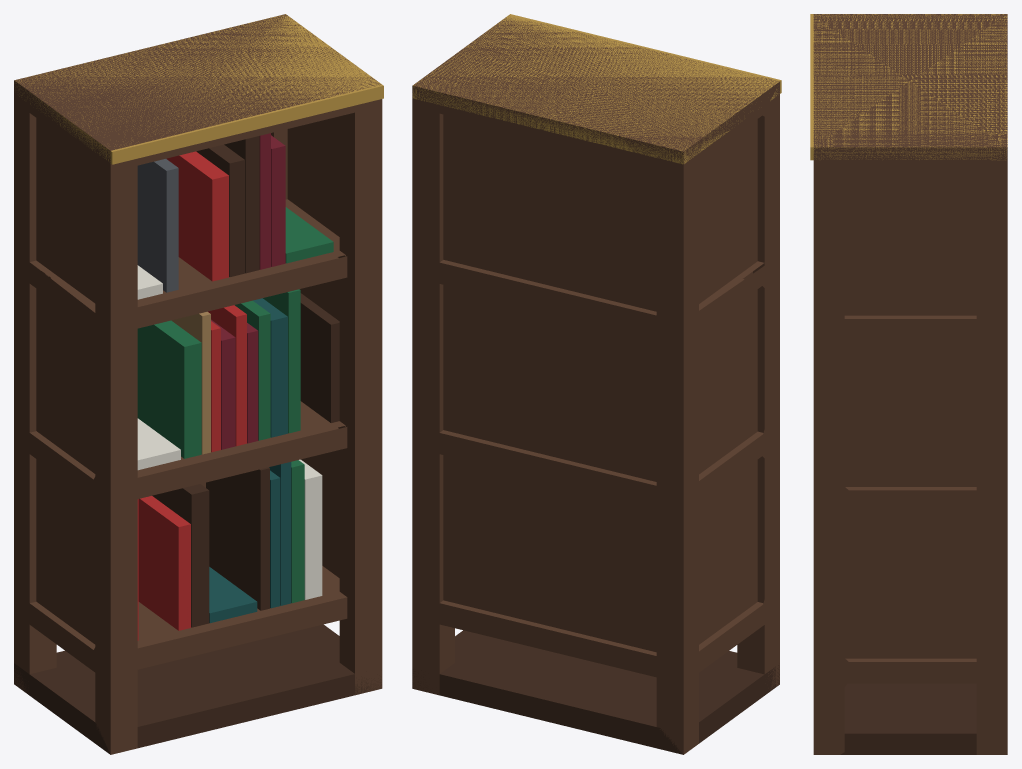
File: bookcaseClosed.glb
3 renders of one model, left to right at view 1: azimuth 30°, elevation 25°; view 2: azimuth 150°, elevation 25°; view 3: azimuth 270°, elevation 25°, orthographic.
Visible parts, largest first — view 1: bookcaseClosed(Clone); view 2: bookcaseClosed(Clone); view 3: bookcaseClosed(Clone).
Boxes of the visible parts, x1,y1,x2,y2 form: bookcaseClosed(Clone): (14,14,383,754); bookcaseClosed(Clone): (412,14,781,754); bookcaseClosed(Clone): (810,14,1007,754).
Size of the model in its own units: 0.4 by 0.85 by 0.25.
